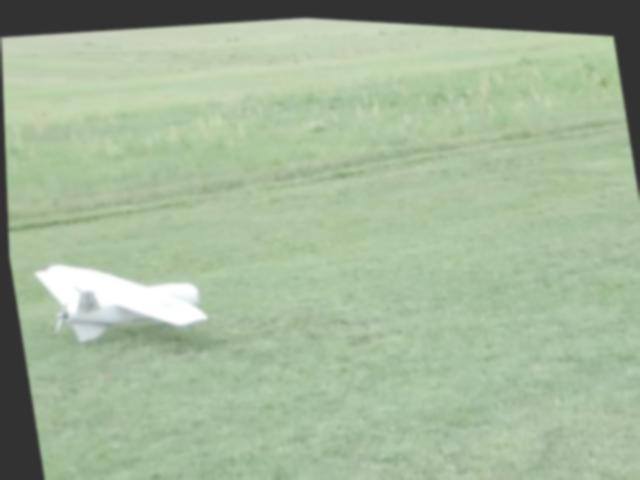uav: (29, 233, 211, 346)
